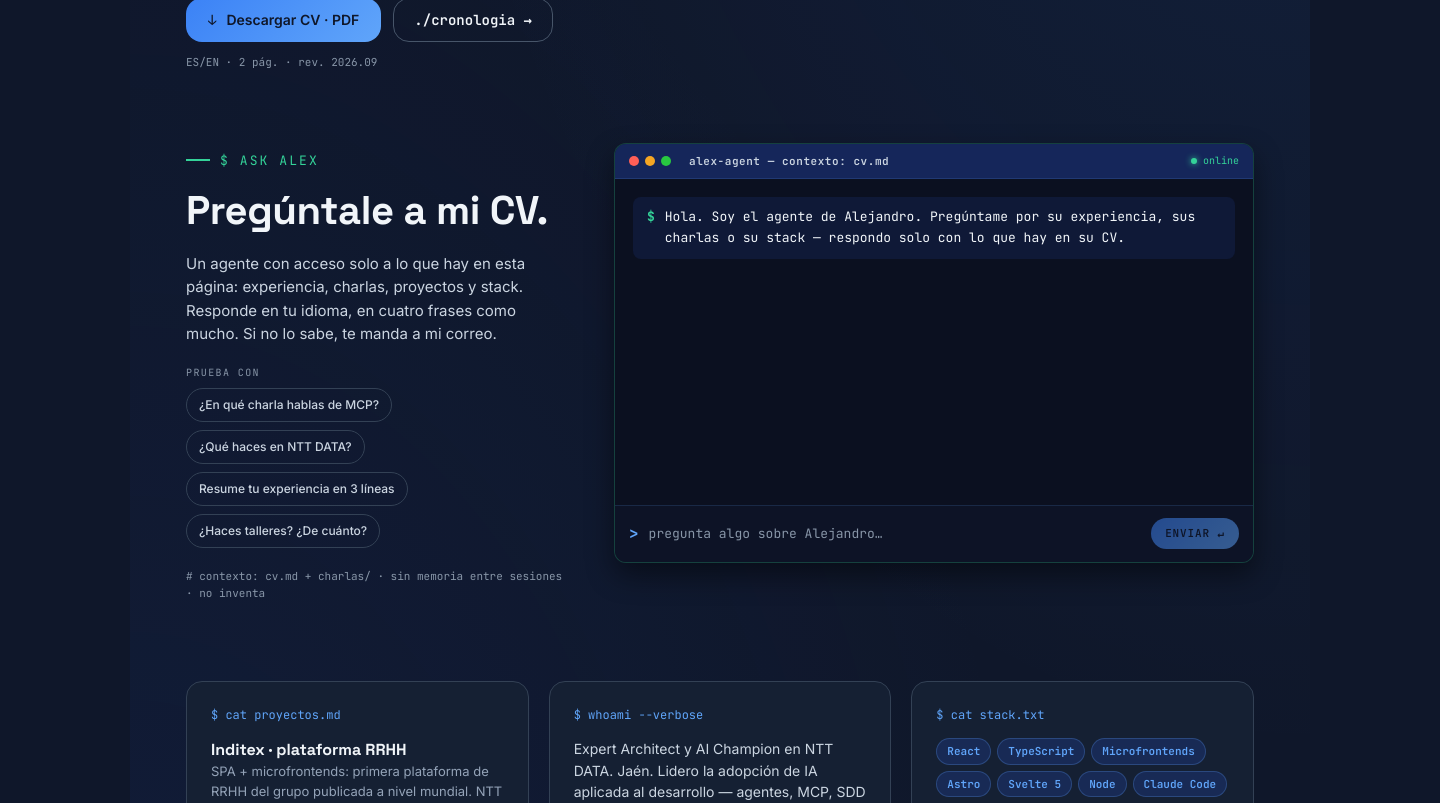
Test case: App › sends a question to /api/ask and renders the plain-text reply
(page scrolled)
Click the button "¿En qué charla hablas de MCP?" at coordinates (289, 405), box x1=186 y1=388 x2=392 y2=422
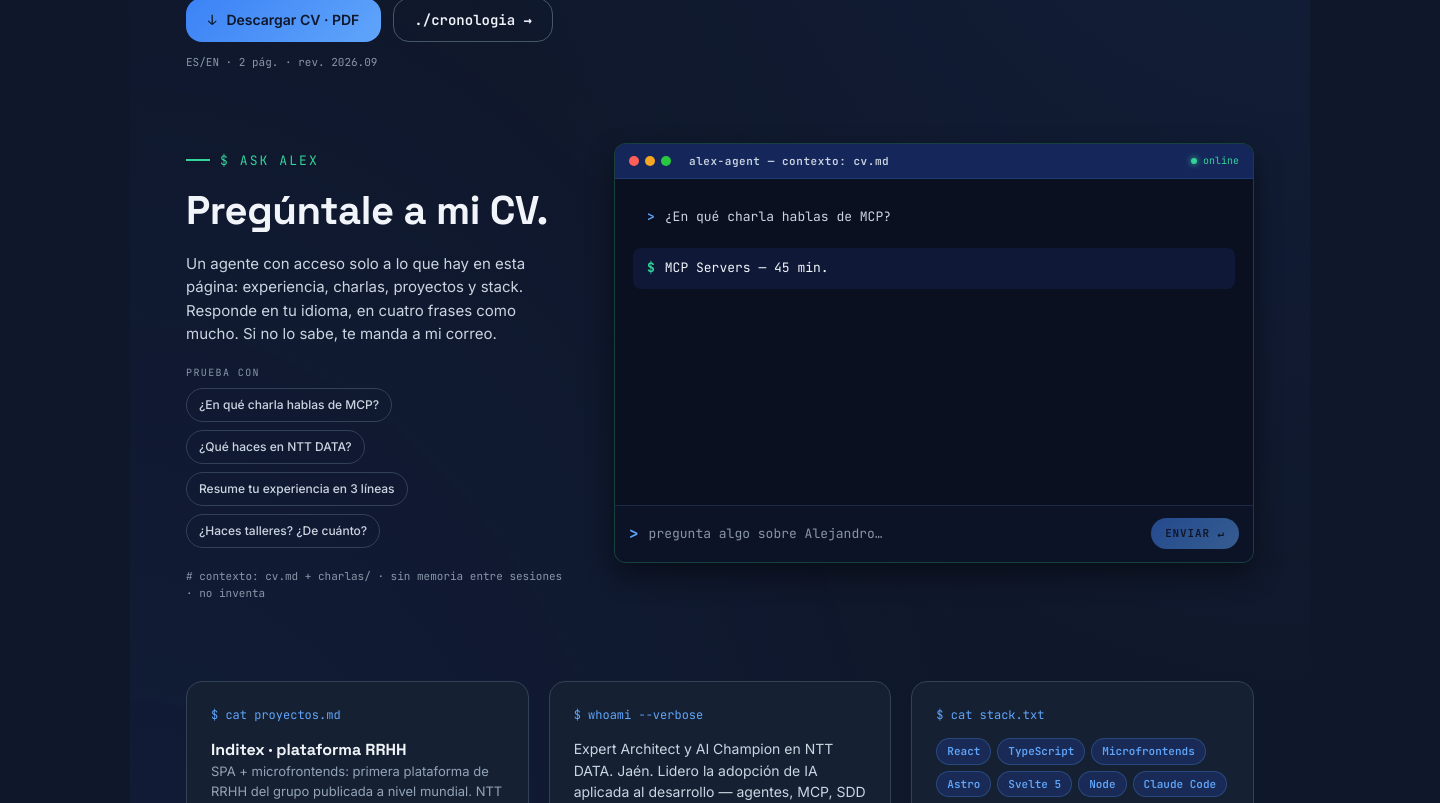
Check: the text "MCP Servers — 45 min." is shown, box x1=665 y1=258 x2=829 y2=279
